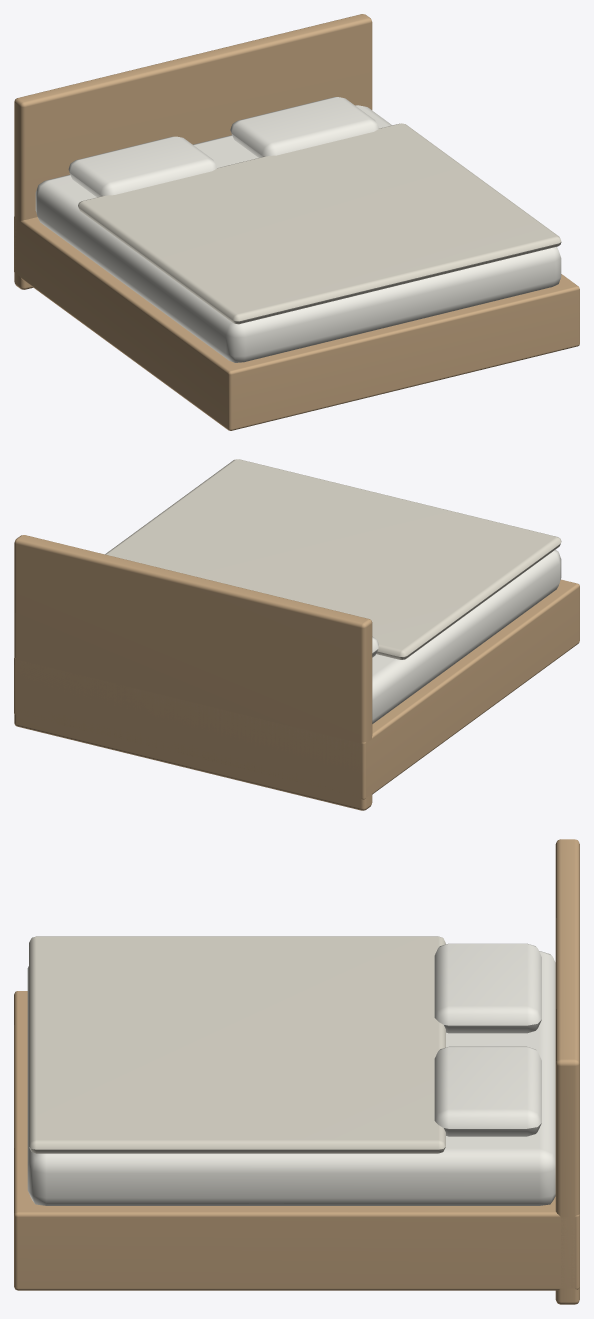
Rendered from ikea_malm_180.glb.
3 renders of one model, top to bottom at view 1: azimuth 30°, elevation 25°; view 2: azimuth 150°, elevation 25°; view 3: azimuth 270°, elevation 25°, orthographic. The views are drawn at different scales.
Visible parts, largest first — view 1: duvet.003, bed frame.003, headboard.003, mattress.003, pillow.006, pillow.007; view 2: headboard.003, duvet.003, bed frame.003, mattress.003; view 3: duvet.003, bed frame.003, mattress.003, headboard.003, pillow.006, pillow.007.
Part boxes in pixels (box(x1,y1,x2,y2)): duvet.003: box(78, 123, 561, 324); bed frame.003: box(14, 216, 579, 430); headboard.003: box(14, 14, 372, 289); mattress.003: box(35, 105, 561, 362); pillow.006: box(68, 136, 216, 197); pillow.007: box(230, 97, 378, 157); headboard.003: box(14, 535, 372, 810); duvet.003: box(105, 459, 561, 659); bed frame.003: box(14, 579, 579, 799); mattress.003: box(372, 550, 561, 723); duvet.003: box(29, 936, 445, 1153); bed frame.003: box(14, 991, 579, 1290); mattress.003: box(27, 951, 555, 1205); headboard.003: box(555, 839, 579, 1304); pillow.006: box(434, 943, 541, 1033); pillow.007: box(434, 1046, 541, 1136).
Bounding box in the file's own units: 1.96 × 1 × 2.09.
